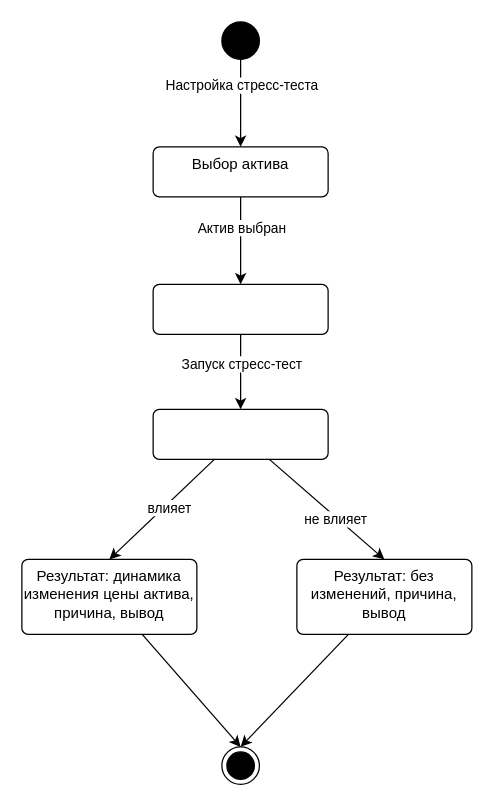
This 494x806 diagram has some shape labels left out. The shapes that lost their labels are listed below. From the top down, each one's box as (x1, y1, x2, y2) in pixels, then its label:
(152, 283, 328, 334): Выбор сценария
(152, 408, 328, 459): Выполнение теста
